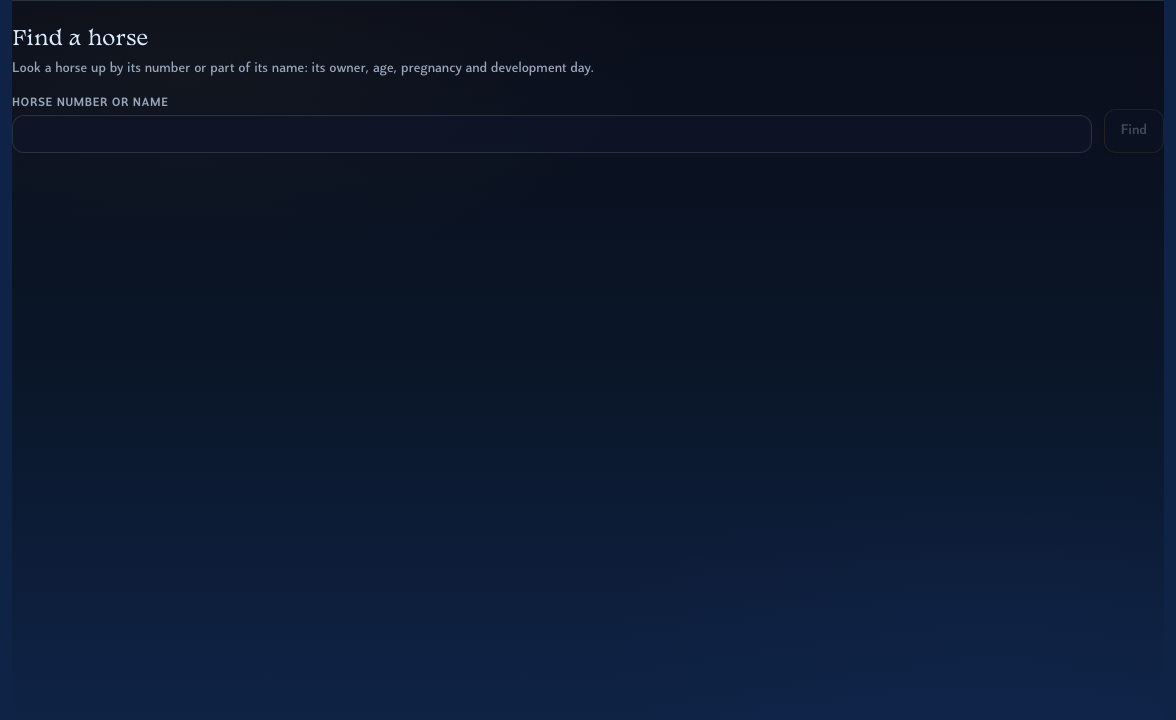
Test case: StaffHorseLookup › looks a horse up and shows its owner, age, pregnancy and traits in words
Expected: the button "Find" is disabled, [1104,109,1164,153]
Type " moonlit " into the field labelled "Horse number or name". click: (552, 134)
box: [12,115,1092,153]
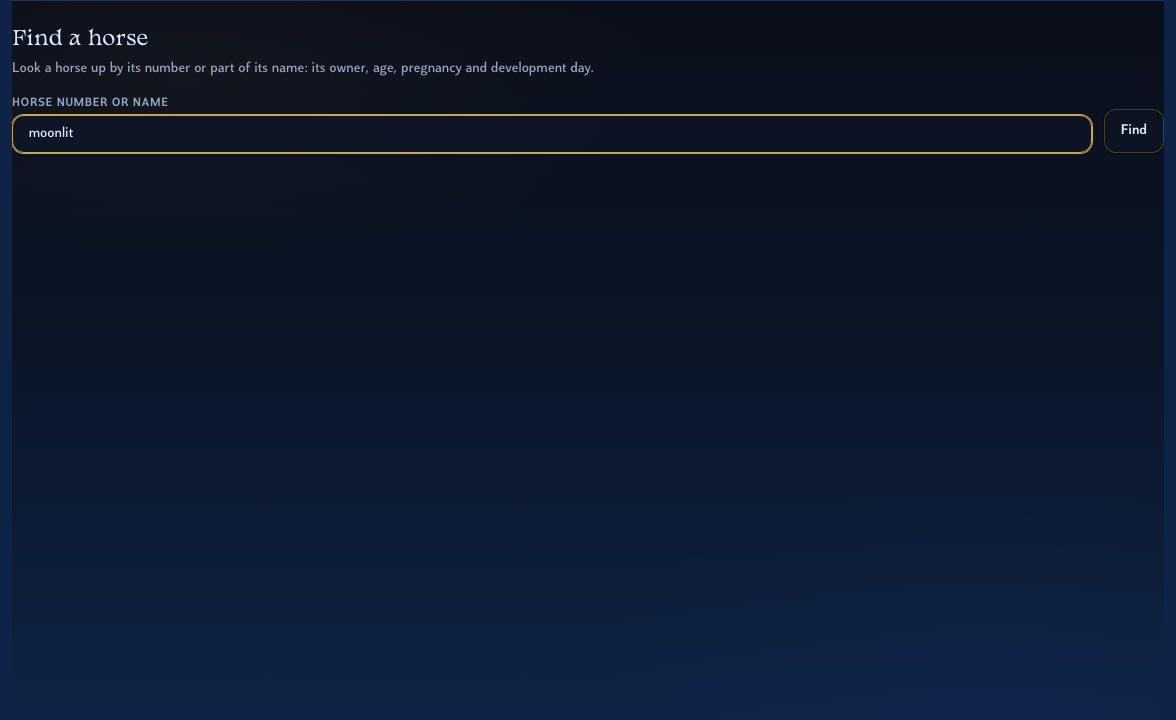
Click the button "Find". click: (1134, 131)
box: [1104,109,1164,153]
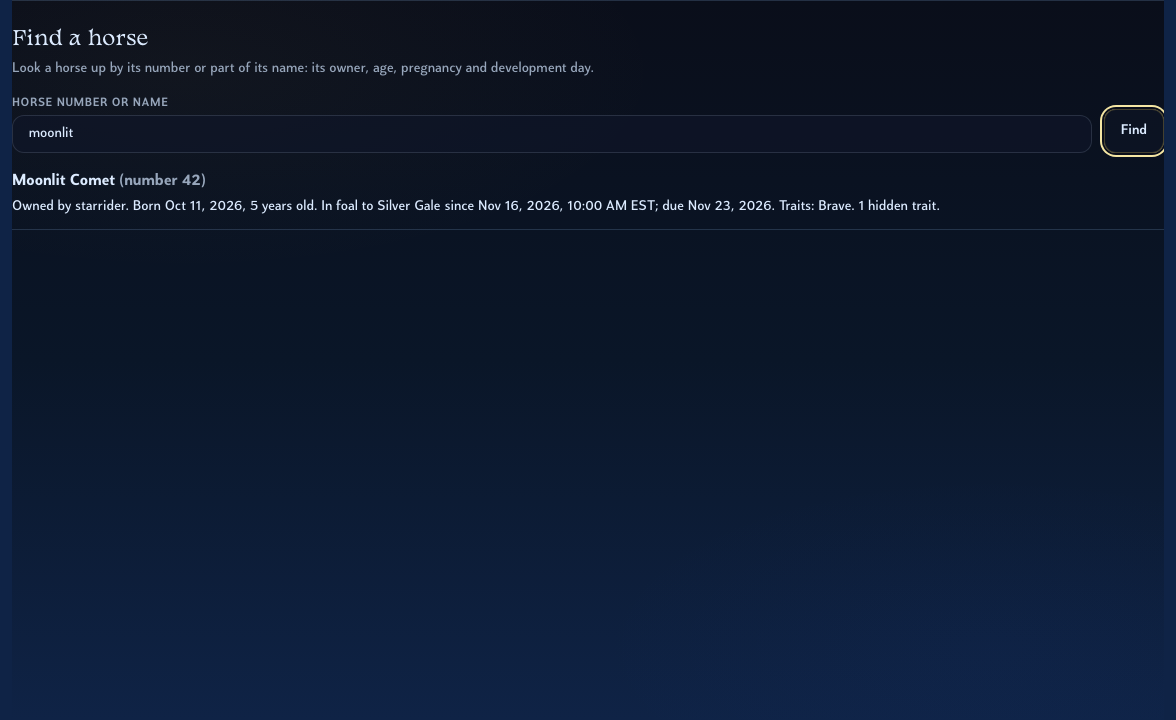
Now the text "Moonlit Comet" is shown, box [12,173,115,189]
Now the text "Owned by starrider." shows "5 years old", box [12,199,940,214]
Now the text "Owned by starrider." shows "In foal to Silver Gale since", box [12,199,940,214]
